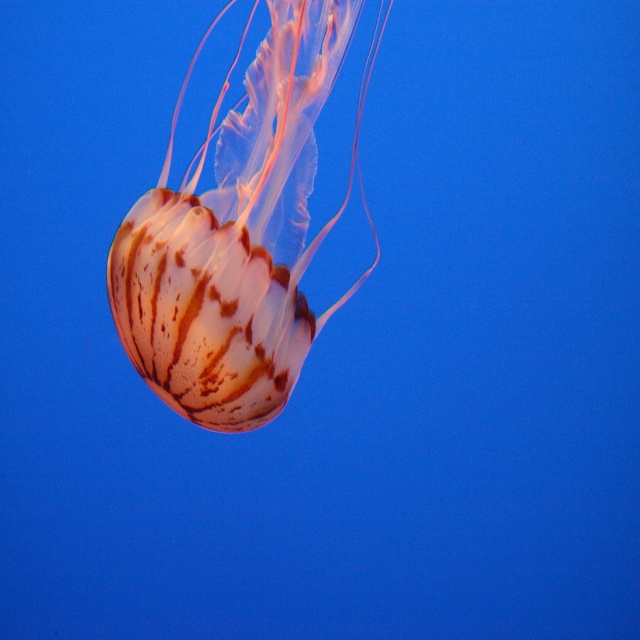Jellyfish: (105, 19, 407, 421)
